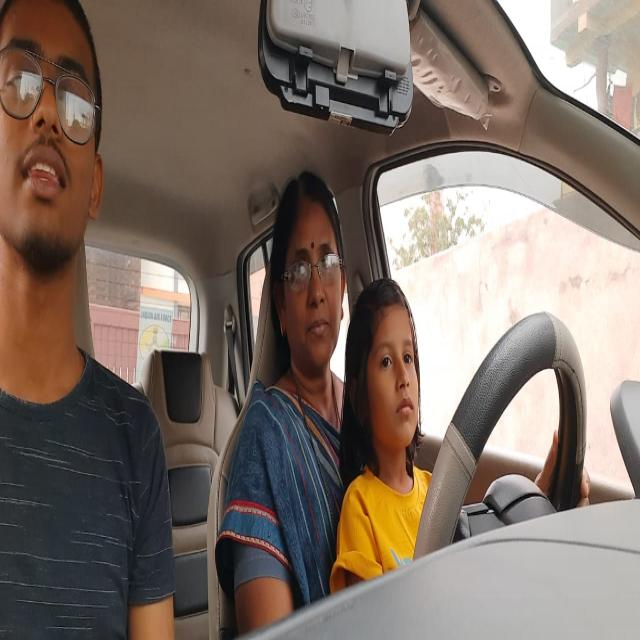child: (345, 277, 423, 456)
person: (0, 0, 106, 284), (268, 167, 348, 374)
